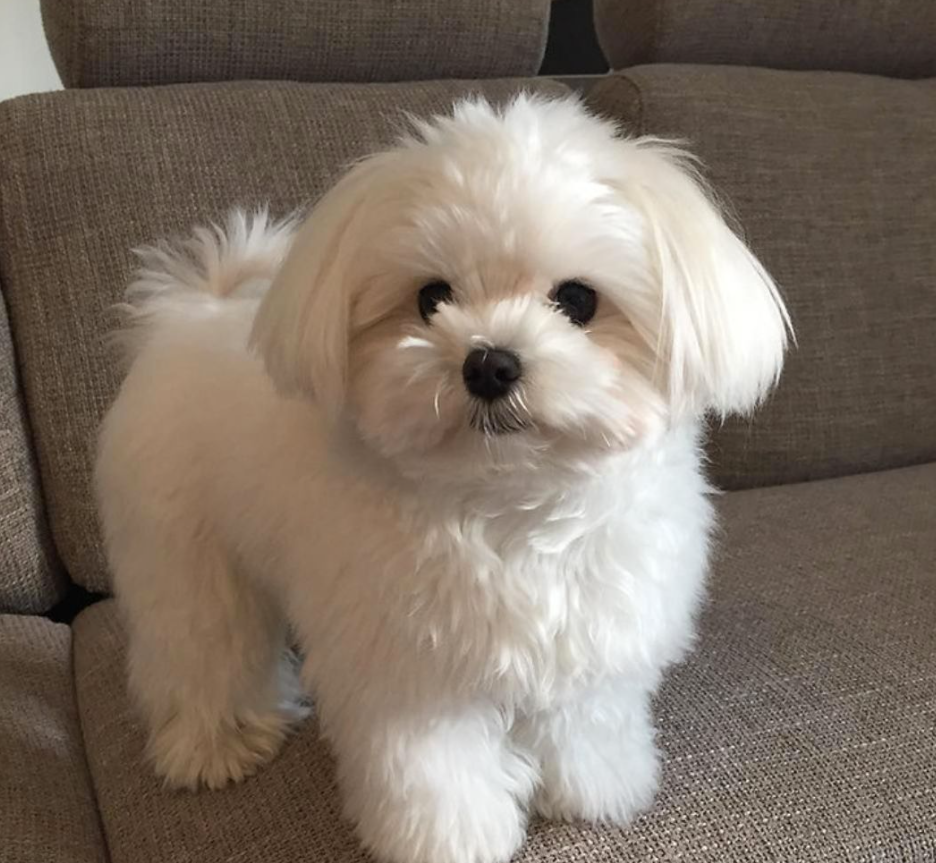perro: (101, 88, 836, 861)
